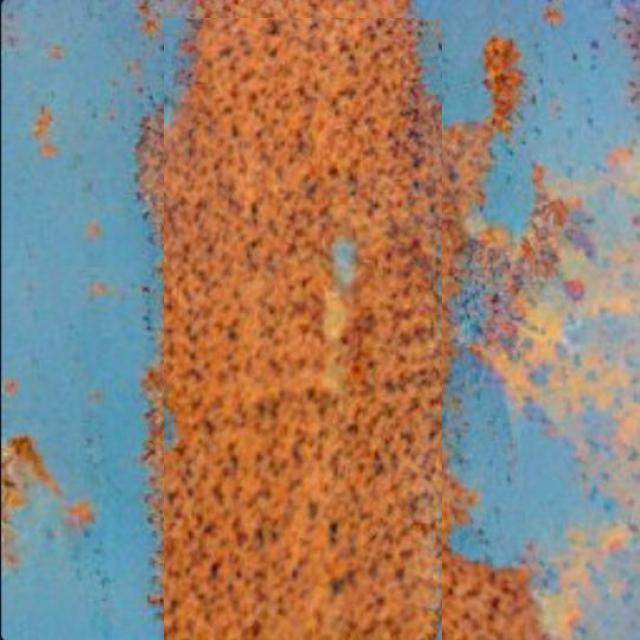Corrosion: (146, 0, 542, 640), (162, 0, 447, 640), (1, 437, 94, 568), (444, 552, 547, 640), (447, 475, 480, 530)
